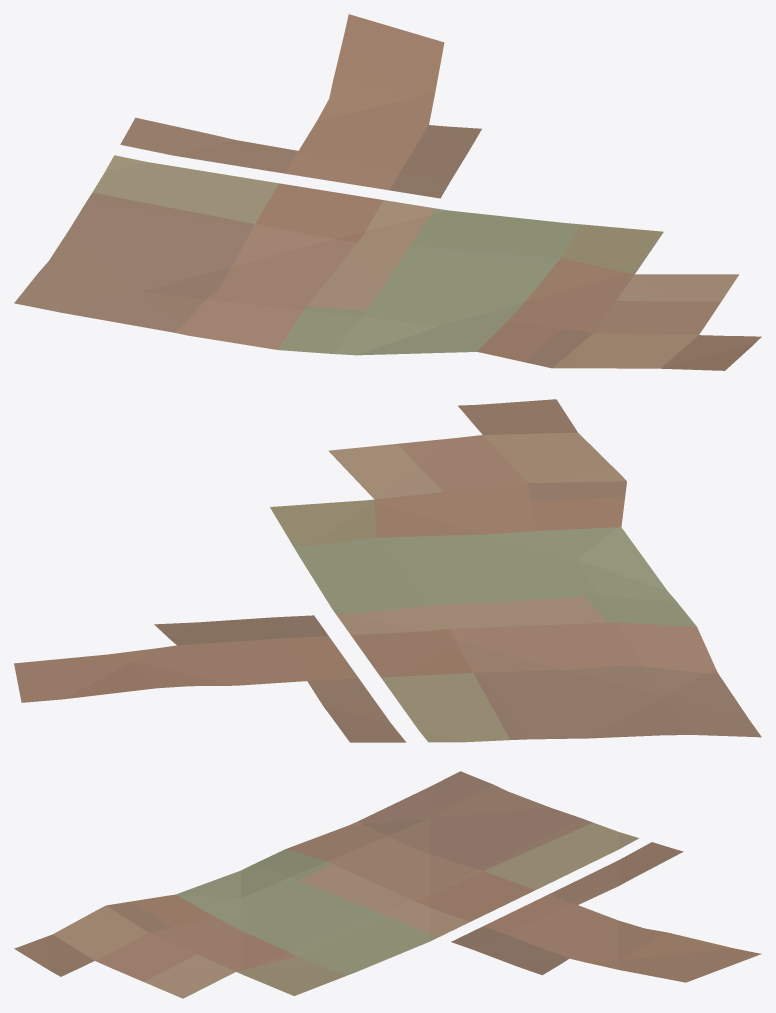
The model's file is farm_-8_0_soil.glb.
The picture shows the model from 3 angles, top to bottom: view 1: azimuth 30°, elevation 25°; view 2: azimuth 150°, elevation 25°; view 3: azimuth 270°, elevation 25°; orthographic projection. The views are drawn at different scales.
Visible parts, largest first — view 1: geometry_0; view 2: geometry_0; view 3: geometry_0.
Part boxes in pixels (<box>): geometry_0: <box>14,14,761,370</box>; geometry_0: <box>14,399,761,742</box>; geometry_0: <box>14,771,761,998</box>.
Bounding box in the file's own units: 237 × 19.16 × 317.
